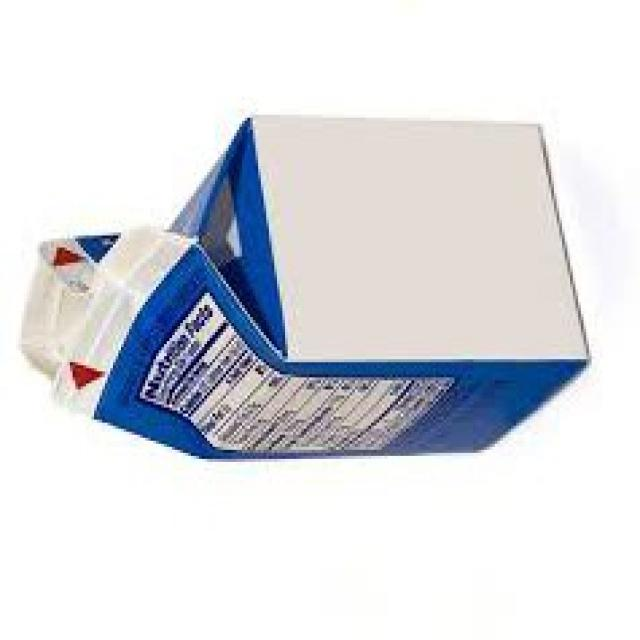non_white_jug: (25, 110, 593, 464)
